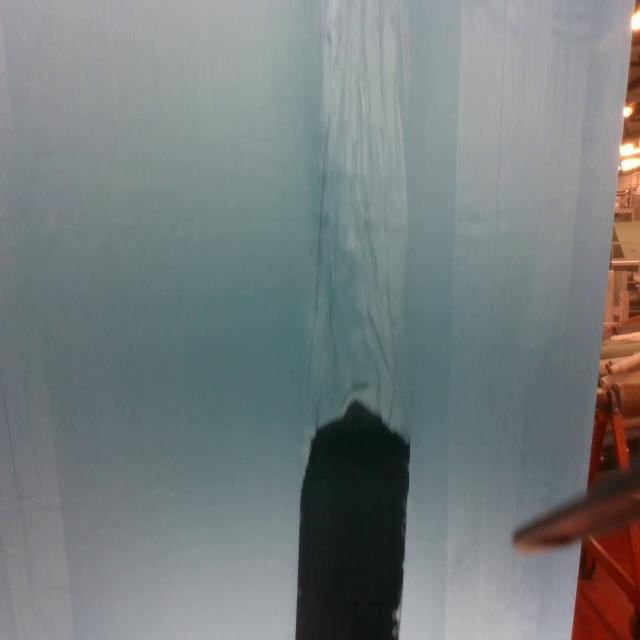crease: (449, 0, 591, 505), (1, 324, 76, 638)
hole: (294, 397, 411, 640)
